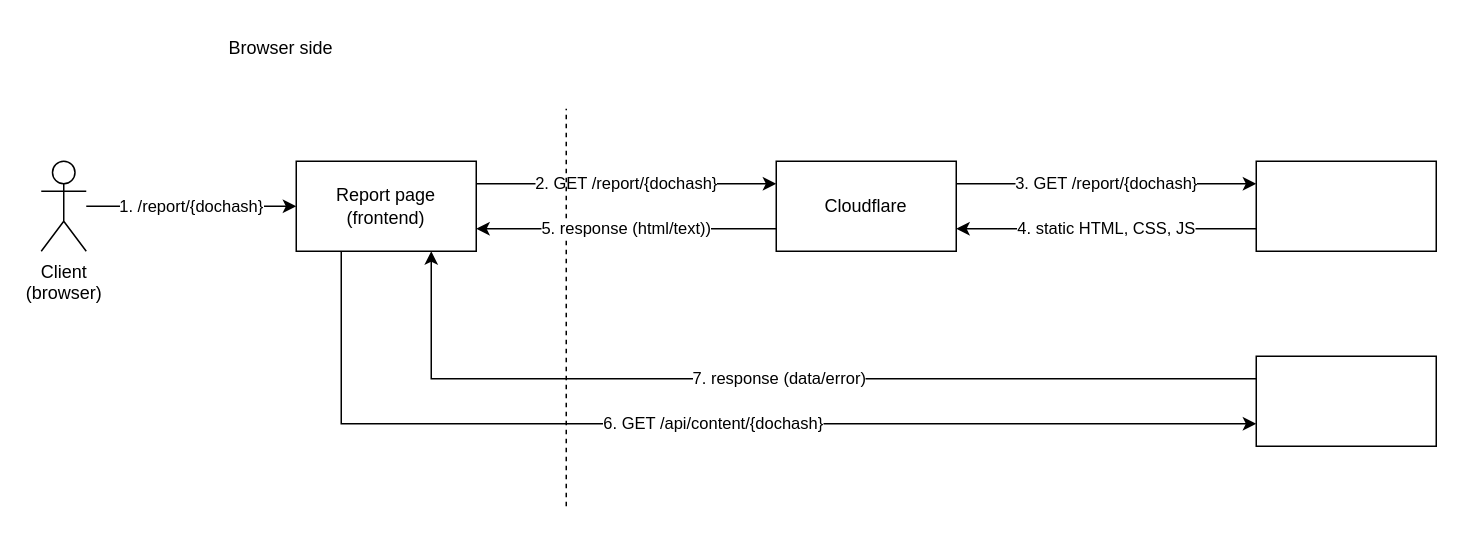
The diagram is 1463 pixels wide and 534 high, and some of its shapes have lost their labels. Each missing label, with the centre of its shape:
"API" goes at (x=1345, y=400).
"Cloudflare Pages" goes at (x=1345, y=205).
